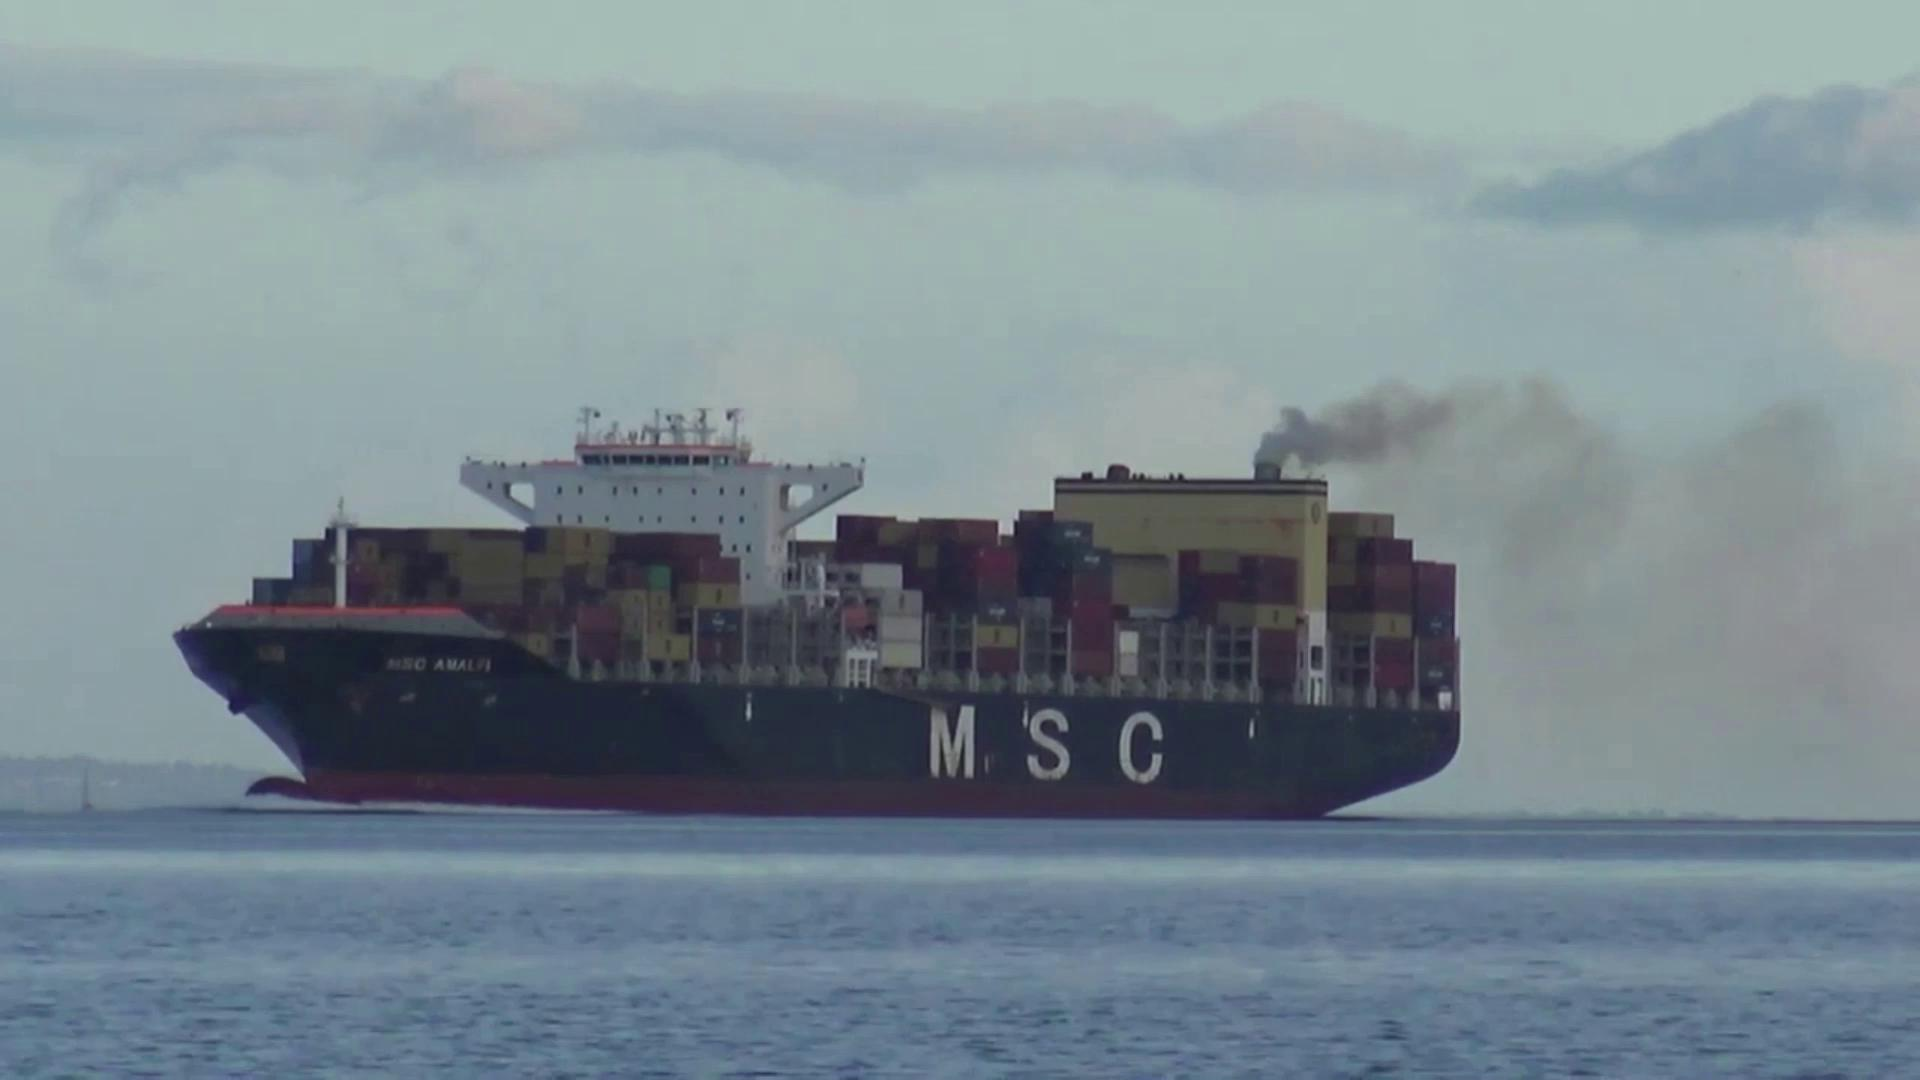OCR: (907, 688, 1179, 802)
